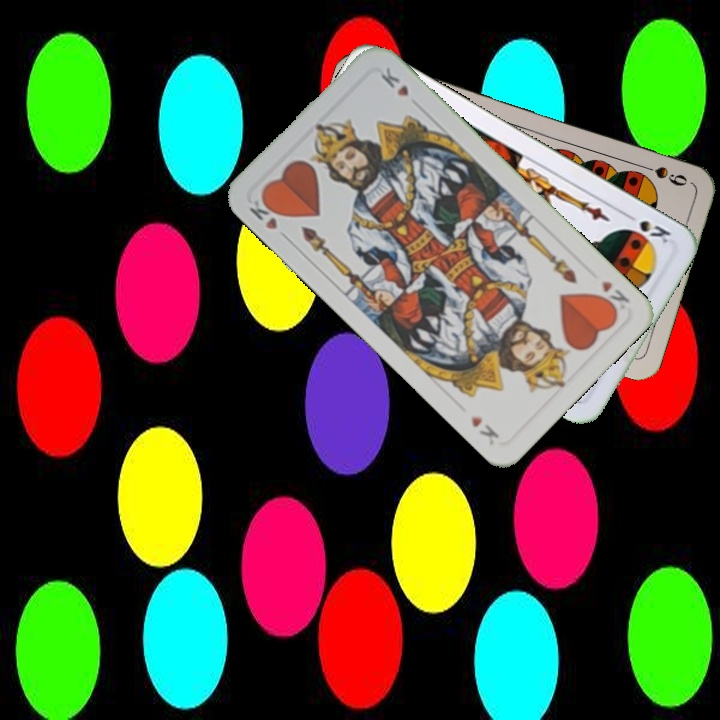HK: (592, 276, 633, 317), (245, 191, 285, 232)
S9: (634, 160, 690, 189)
SK: (620, 208, 674, 246)
